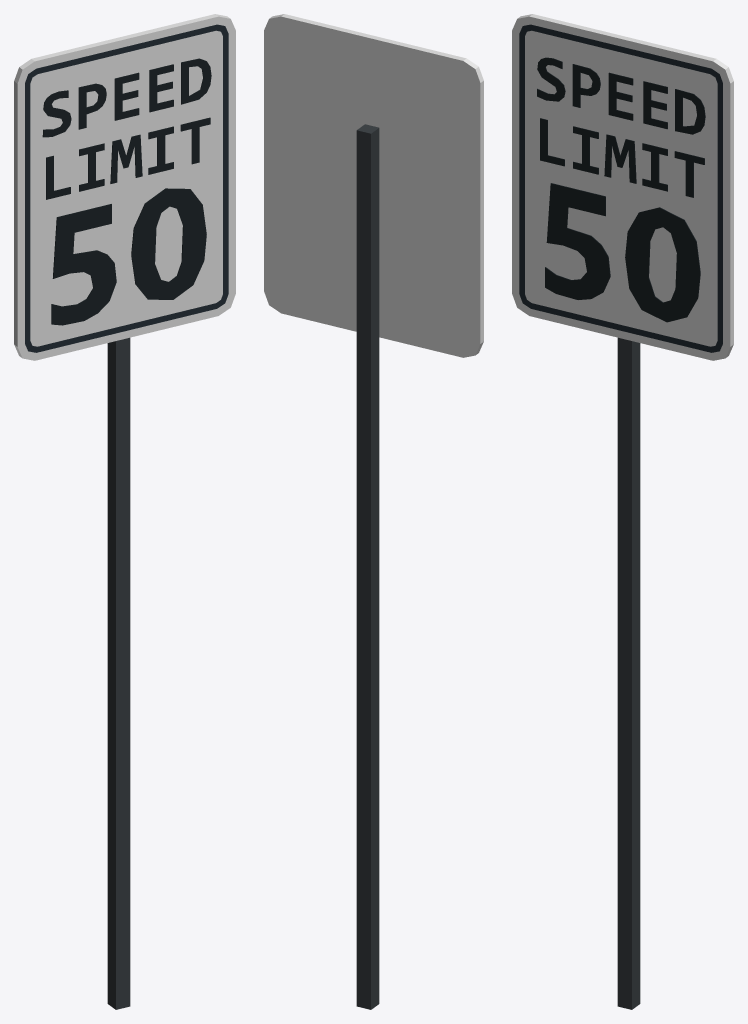
The model's file is SM_FloorProps_RoadSign_01.fbx.
3 views of the same model, side by side, from view 1: azimuth 30°, elevation 25°; view 2: azimuth 150°, elevation 25°; view 3: azimuth 330°, elevation 25° (orthographic).
Parts seen in each view (by area): view 1: SM_FloorProps_RoadSign_01; view 2: SM_FloorProps_RoadSign_01; view 3: SM_FloorProps_RoadSign_01.
Part boxes in pixels (x1,y1,x2,y2): SM_FloorProps_RoadSign_01: (14,14,235,1009); SM_FloorProps_RoadSign_01: (264,14,483,1009); SM_FloorProps_RoadSign_01: (512,14,733,1009).
Bounding box in the file's own units: 0.6461 × 2.75 × 0.0636.
